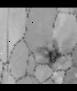good_void: (38, 44, 63, 64)
